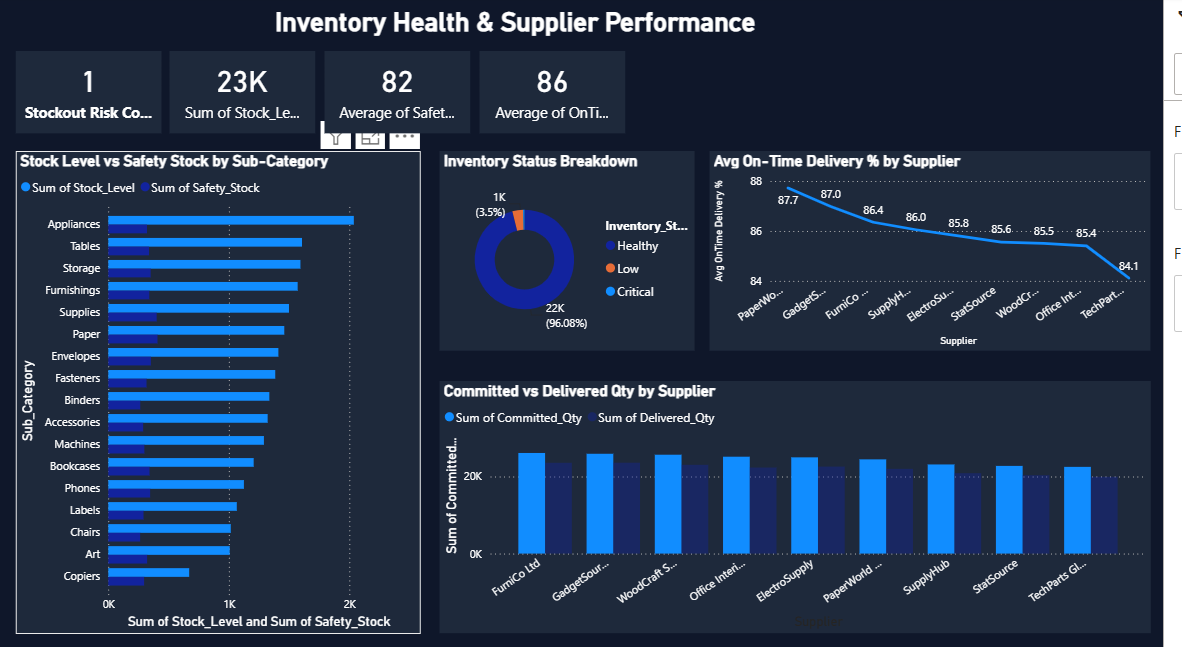

Layout of this report page (visuals, bound fields, positions):
{"tool":"powerbi","page":{"name":"Inventory & Suppliers","canvas":[1280,720],"ordinal":2},"visuals":[{"type":"advanceCardE03760C5AB684758B56AA29F9E6C257B","fields":{"mainMeasure":["Forecast_vs_Actual.Stockout Risk Count"]},"box":[20,60,160,90],"z":0},{"type":"clusteredBarChart","title":"Stock Level vs Safety Stock by Sub-Category","fields":{"Category":["Inventory_Levels.Sub_Category"],"Y":["Sum(Inventory_Levels.Stock_Level)","Sum(Inventory_Levels.Safety_Stock)"]},"box":[20.6,170.2,444.6,529.7],"z":1},{"type":"donutChart","title":"Inventory Status Breakdown","fields":{"Category":["Inventory_Levels.Inventory_Status"],"Y":["Sum(Inventory_Levels.Stock_Level)"]},"box":[485.8,170.2,279.9,219.6],"z":2},{"type":"clusteredColumnChart","title":"Committed vs Delivered Qty by Supplier","fields":{"Category":["Supplier_Performance.Supplier"],"Y":["Sum(Supplier_Performance.Committed_Qty)","Sum(Supplier_Performance.Delivered_Qty)"]},"box":[485.8,422.6,780.8,277.2],"z":3},{"type":"textbox","title":"Inventory Health & Supplier Performance","box":[300,11,560,40],"z":4},{"type":"lineChart","title":"Avg On-Time Delivery % by Supplier","fields":{"Category":["Supplier_Performance.Supplier"],"Y":["Forecast_vs_Actual.Avg OnTime Delivery %"]},"box":[782.2,170.2,484.4,219.6],"z":5},{"type":"advanceCardE03760C5AB684758B56AA29F9E6C257B","fields":{"mainMeasure":["Sum(Inventory_Levels.Stock_Level)"]},"box":[190,60,160,90],"z":6},{"type":"advanceCardE03760C5AB684758B56AA29F9E6C257B","fields":{"mainMeasure":["Avg(Inventory_Levels.Safety_Stock)"]},"box":[360,60,160,90],"z":7},{"type":"advanceCardE03760C5AB684758B56AA29F9E6C257B","fields":{"mainMeasure":["Avg(Supplier_Performance.OnTime_Delivery_Pct)"]},"box":[530,60,160,90],"z":8}]}

Visuals, with their boxes in screenshot pixels (x1, y1, x2, y2), scaled from the page's 1280x720 canvas onto the 1182x647 screenshot:
advanceCardE03760C5AB684758B56AA29F9E6C257B - Forecast_vs_Actual.Stockout Risk Count: detection(18, 54, 166, 135)
"Stock Level vs Safety Stock by Sub-Category" clusteredBarChart: detection(19, 153, 430, 629)
"Inventory Status Breakdown" donutChart: detection(449, 153, 707, 350)
"Committed vs Delivered Qty by Supplier" clusteredColumnChart: detection(449, 380, 1170, 629)
"Inventory Health & Supplier Performance" textbox: detection(277, 10, 794, 46)
"Avg On-Time Delivery % by Supplier" lineChart: detection(722, 153, 1170, 350)
advanceCardE03760C5AB684758B56AA29F9E6C257B - Sum(Inventory_Levels.Stock_Level): detection(175, 54, 323, 135)
advanceCardE03760C5AB684758B56AA29F9E6C257B - Avg(Inventory_Levels.Safety_Stock): detection(332, 54, 480, 135)
advanceCardE03760C5AB684758B56AA29F9E6C257B - Avg(Supplier_Performance.OnTime_Delivery_Pct): detection(489, 54, 637, 135)
